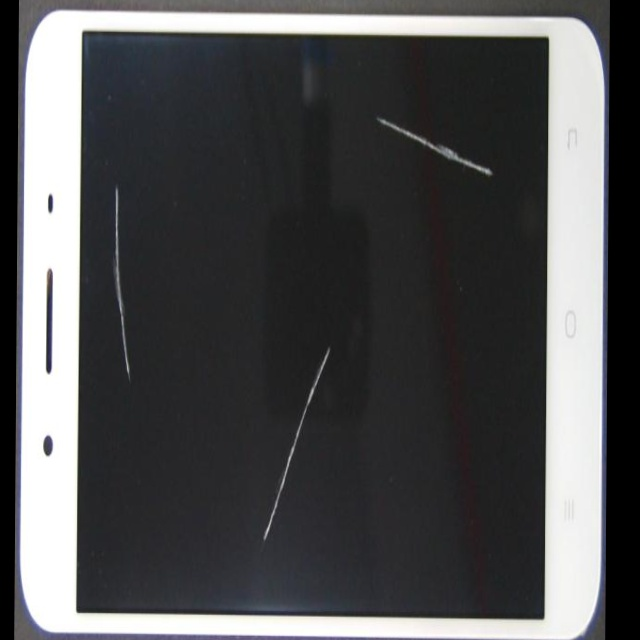scratch: (187, 150, 506, 519), (60, 0, 164, 358), (330, 103, 609, 232)
